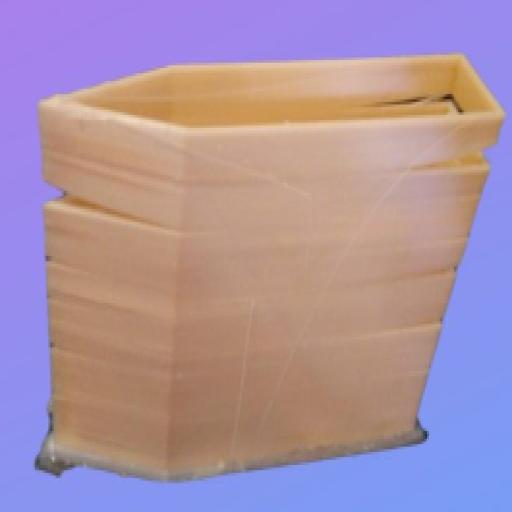cracks: (26, 170, 176, 274), (399, 138, 512, 186), (392, 256, 465, 318)
